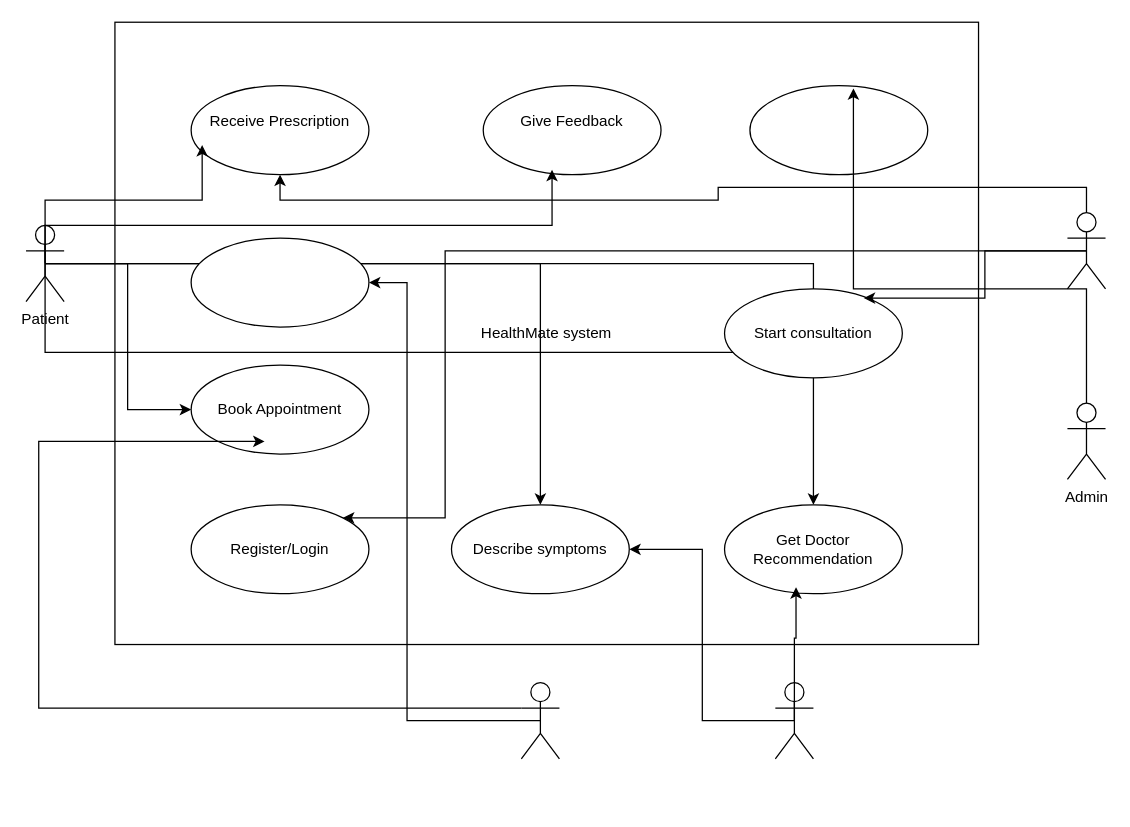
Some shapes in this 1130 by 827 pixel diagram are drawn without their labels. Each missing label, with the centre of its shape:
"Ai Chatbot" goes at (793,720).
"Doctor" goes at (1086,250).
"Handle Payments" goes at (279,282).
"Manage Doctors" goes at (838,129).
"Payment Gateway" goes at (539,720).
